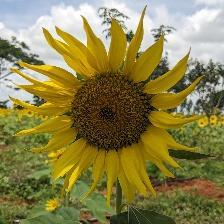sunflower: (9, 6, 209, 211)
